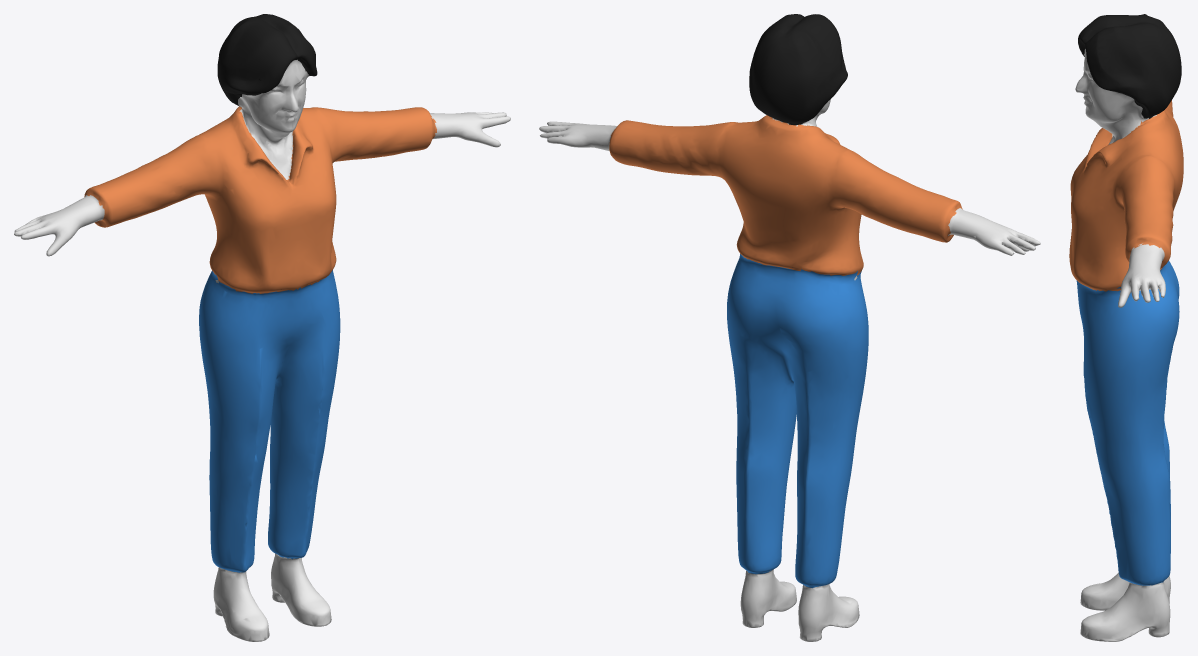
Rendered from LadyOptimized.fbx.
3 renders of one model, left to right at view 1: azimuth 30°, elevation 25°; view 2: azimuth 150°, elevation 25°; view 3: azimuth 270°, elevation 25°, orthographic.
Parts seen in each view (by area): view 1: Lady; view 2: Lady; view 3: Lady.
Boxes of the visible parts, <box> form: Lady: <box>14,14,510,641</box>; Lady: <box>539,14,1040,641</box>; Lady: <box>1069,14,1183,641</box>.
Bounding box in the file's own units: 157 × 181 × 31.19.
